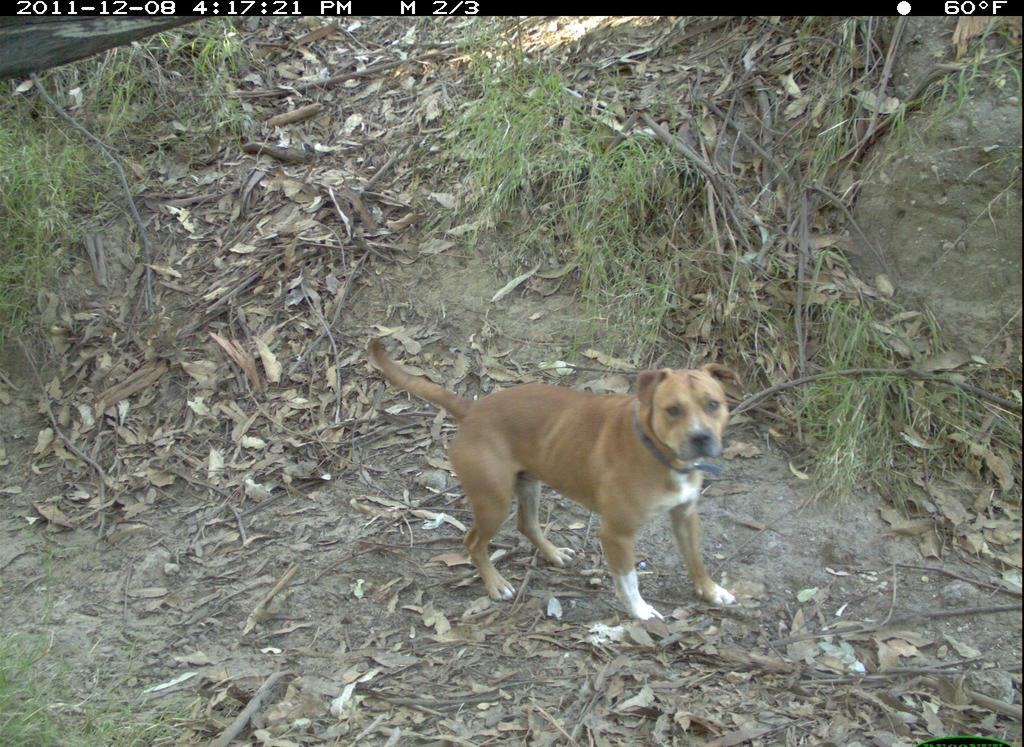dog: (350, 323, 754, 638)
